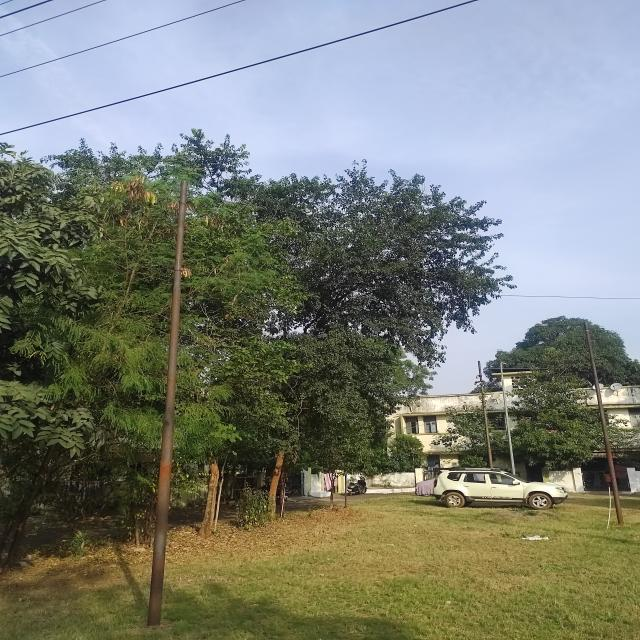Devakanchan tree: (249, 157, 505, 410)
